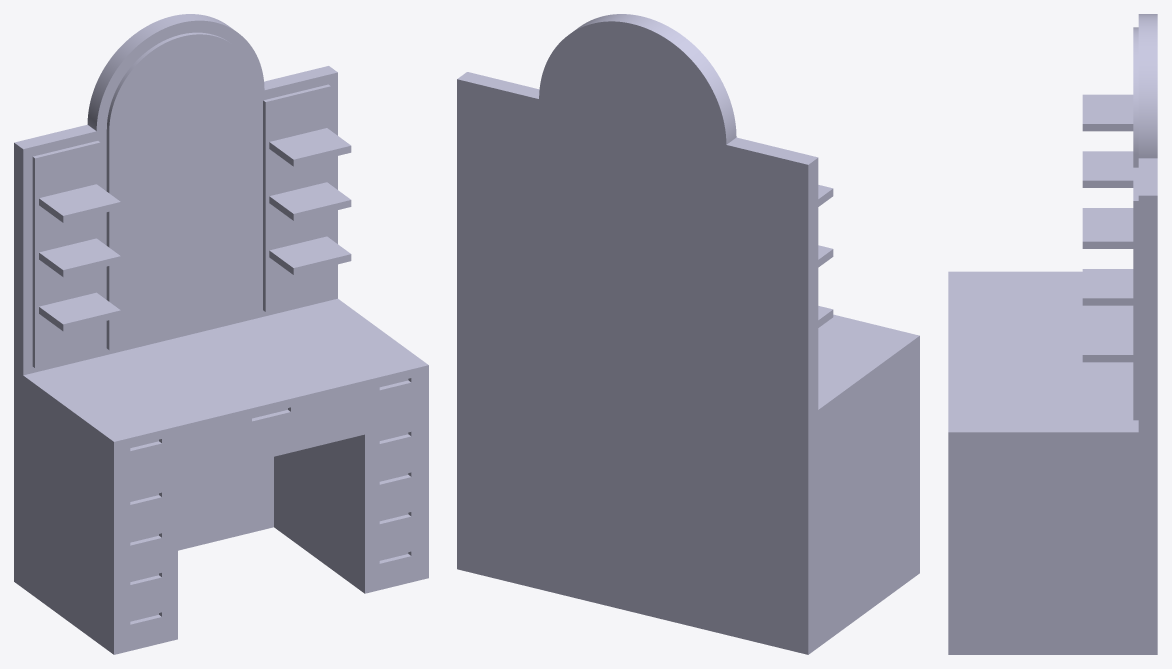
File: dressing_table.gltf
3 views of the same model, side by side, from view 1: azimuth 30°, elevation 25°; view 2: azimuth 150°, elevation 25°; view 3: azimuth 270°, elevation 25° (orthographic). The views are drawn at different scales.
Visible parts, largest first — view 1: Body; view 2: Body; view 3: Body.
Boxes of the visible parts, x1=… form: Body: x1=14, y1=14, x2=428, y2=654; Body: x1=457, y1=14, x2=919, y2=654; Body: x1=948, y1=14, x2=1157, y2=654.
Size of the model in its own units: 1.5 by 2.4 by 0.825.
